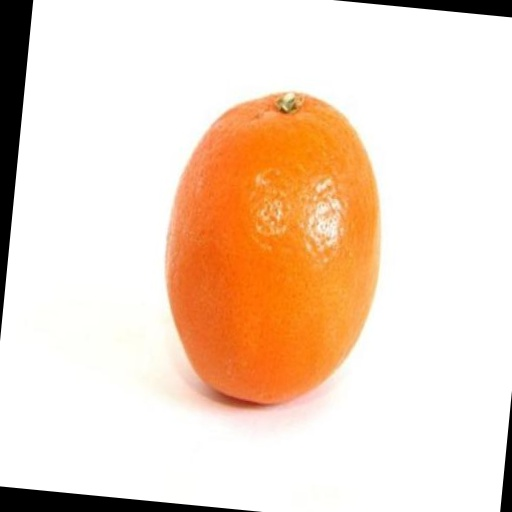fruit: (165, 93, 379, 403)
